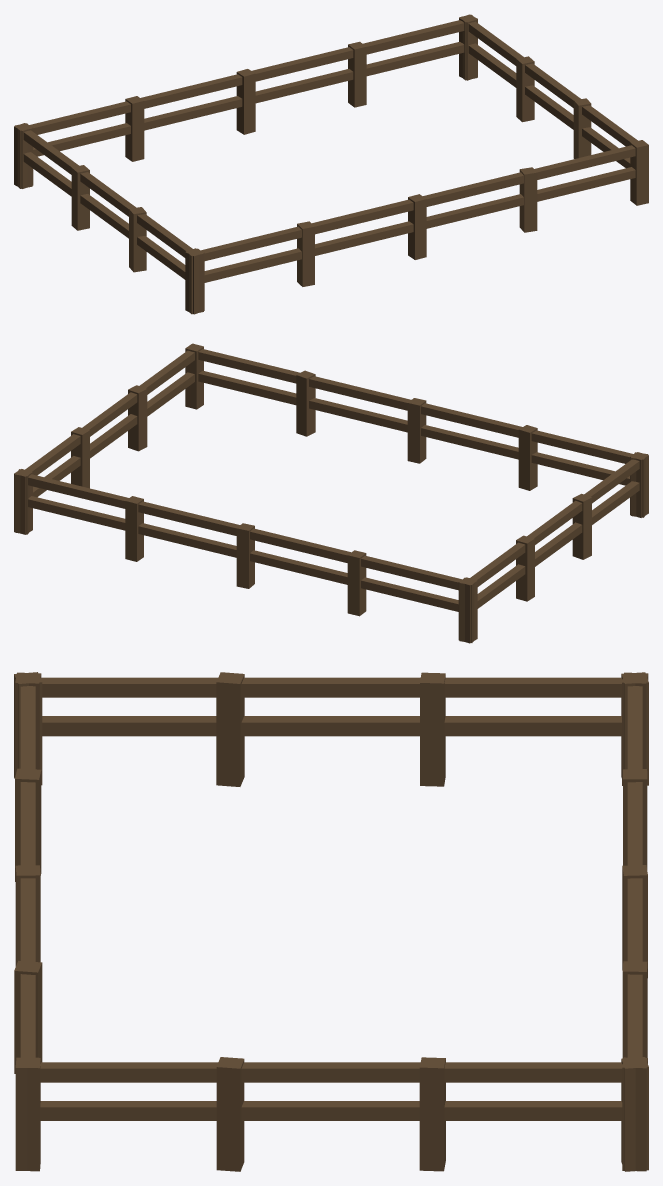
Rendered from wood-fence.glb.
The picture shows the model from 3 angles, top to bottom: view 1: azimuth 30°, elevation 25°; view 2: azimuth 150°, elevation 25°; view 3: azimuth 270°, elevation 25°; orthographic projection. The views are drawn at different scales.
Parts seen in each view (by area): view 1: Wood Fence; view 2: Wood Fence; view 3: Wood Fence.
Part boxes in pixels (x1,y1,x2,y2): Wood Fence: (14,14,648,314); Wood Fence: (14,343,648,643); Wood Fence: (14,672,648,1171).
Size of the model in its own units: 0.6186 by 0.075 by 0.4185.
